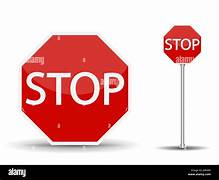stop: (20, 33, 131, 146), (163, 24, 202, 64)
